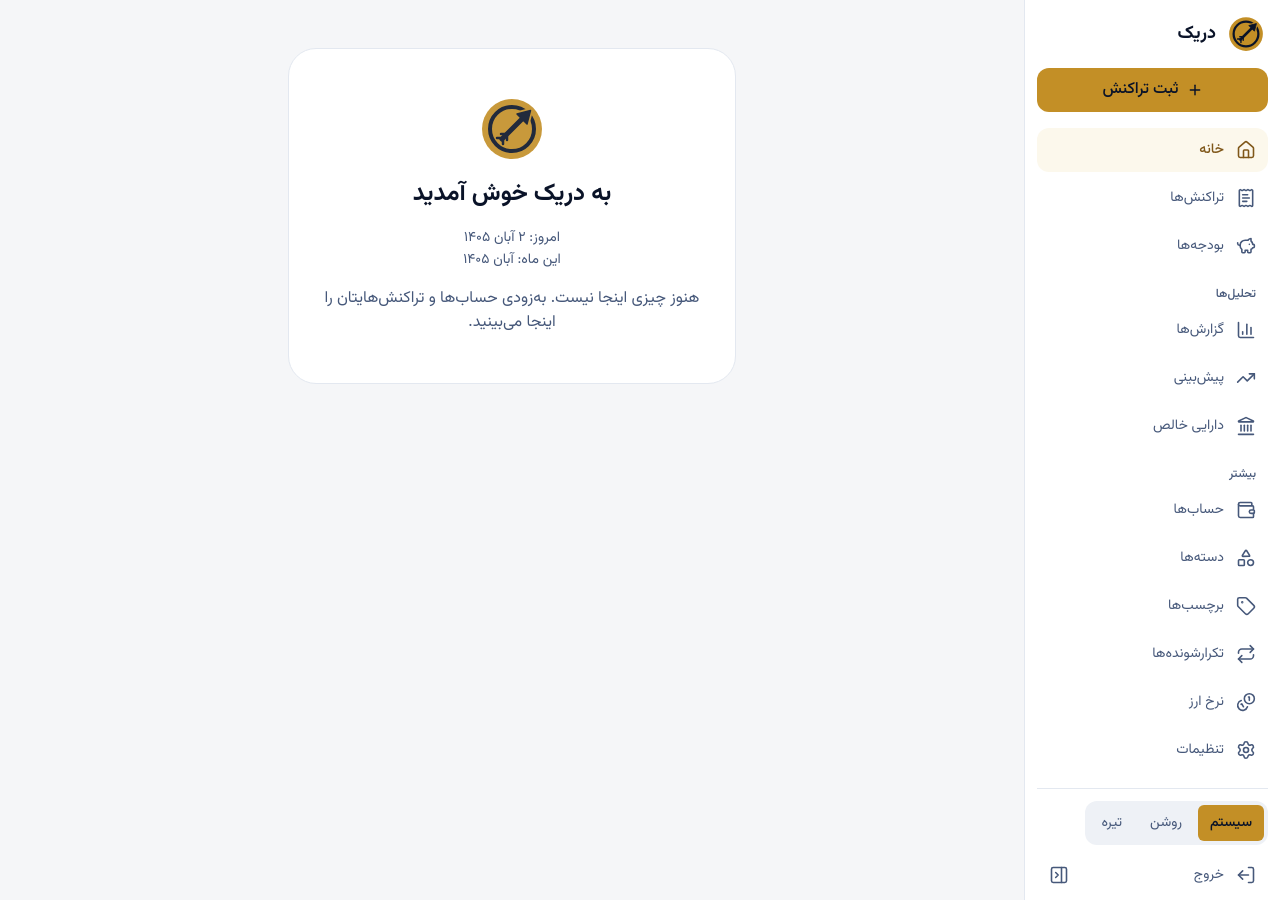
Test: Categories › are reachable from the header and start with Expense Categories
The image size is (1280, 900).
Click the link "دسته‌ها": {"x": 1218, "y": 558} [1180, 547, 1256, 569]
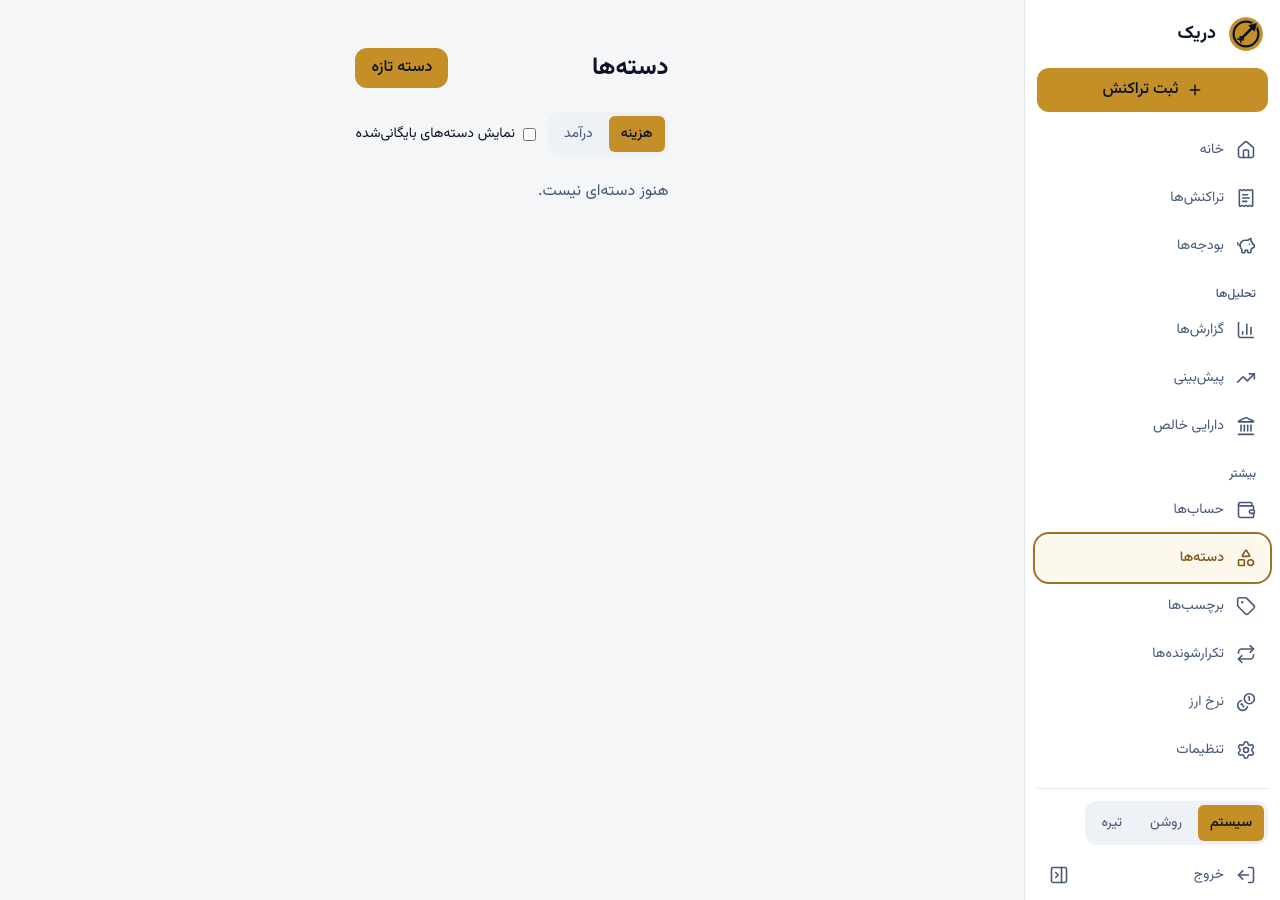
Now the radio button labelled "هزینه" is shown, box [609, 116, 664, 152]
Now the text "هنوز دسته‌ای نیست." is shown, box [538, 179, 669, 204]
Click the radio button labelled "درآمد": {"x": 578, "y": 134} [552, 116, 605, 152]
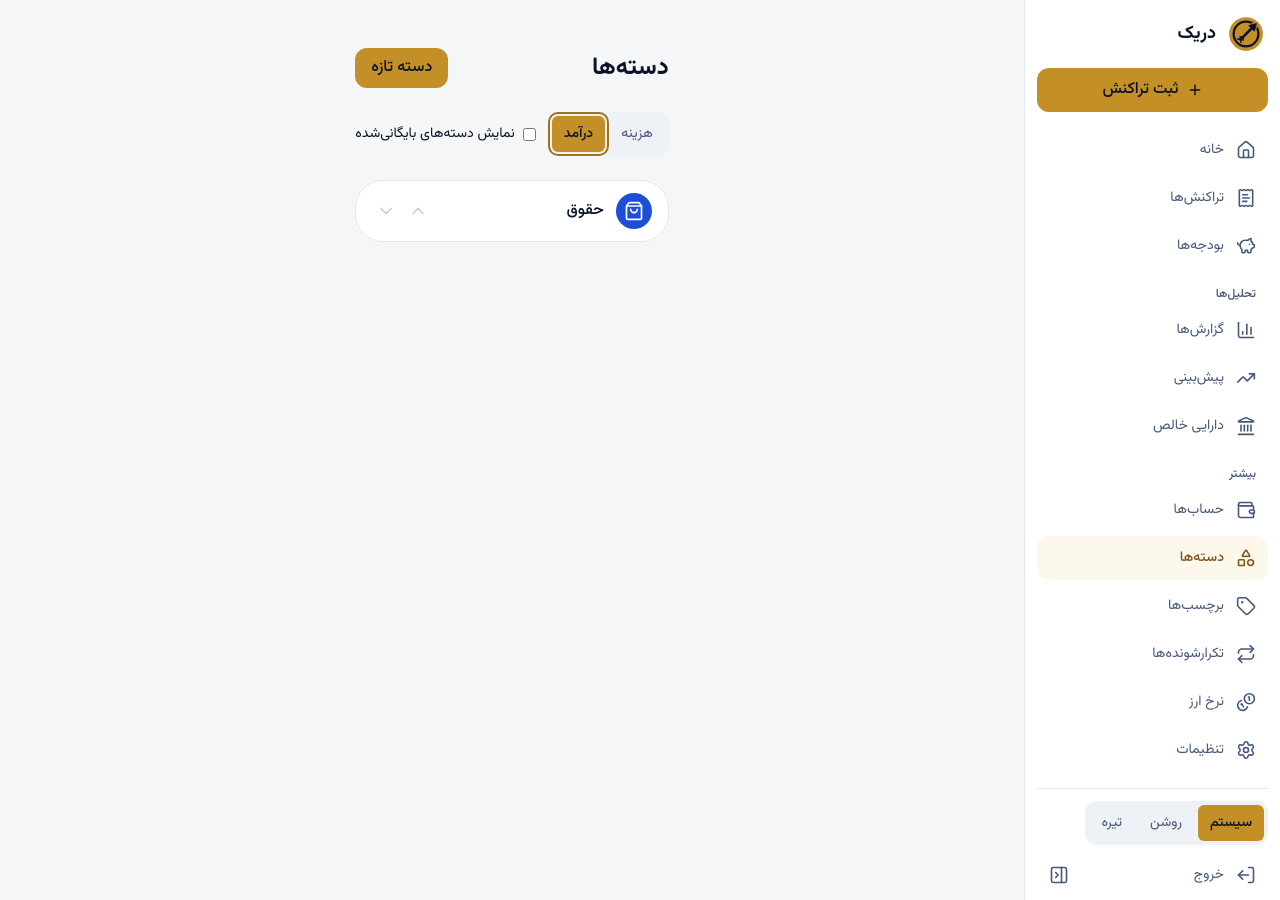
Now the link "حقوق" is shown, box [566, 199, 604, 223]
